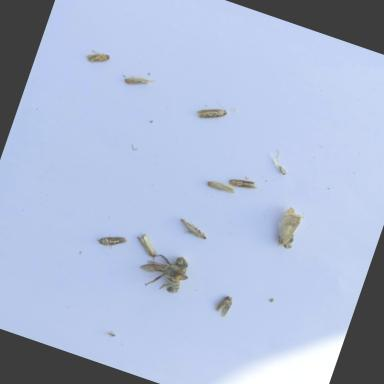pbw: (170, 211, 217, 247), (128, 227, 165, 262), (190, 98, 232, 128), (79, 41, 116, 72), (94, 225, 130, 255), (223, 170, 262, 197), (202, 174, 239, 202), (120, 66, 156, 94), (213, 290, 236, 320)
